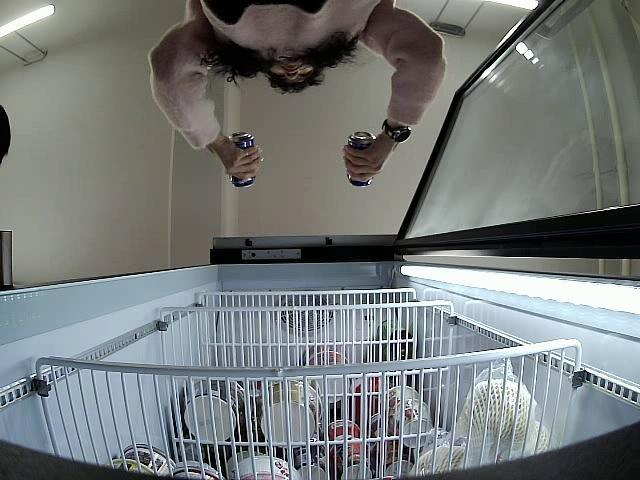14_welchsGrape: (346, 130, 379, 188), (228, 132, 258, 189)
